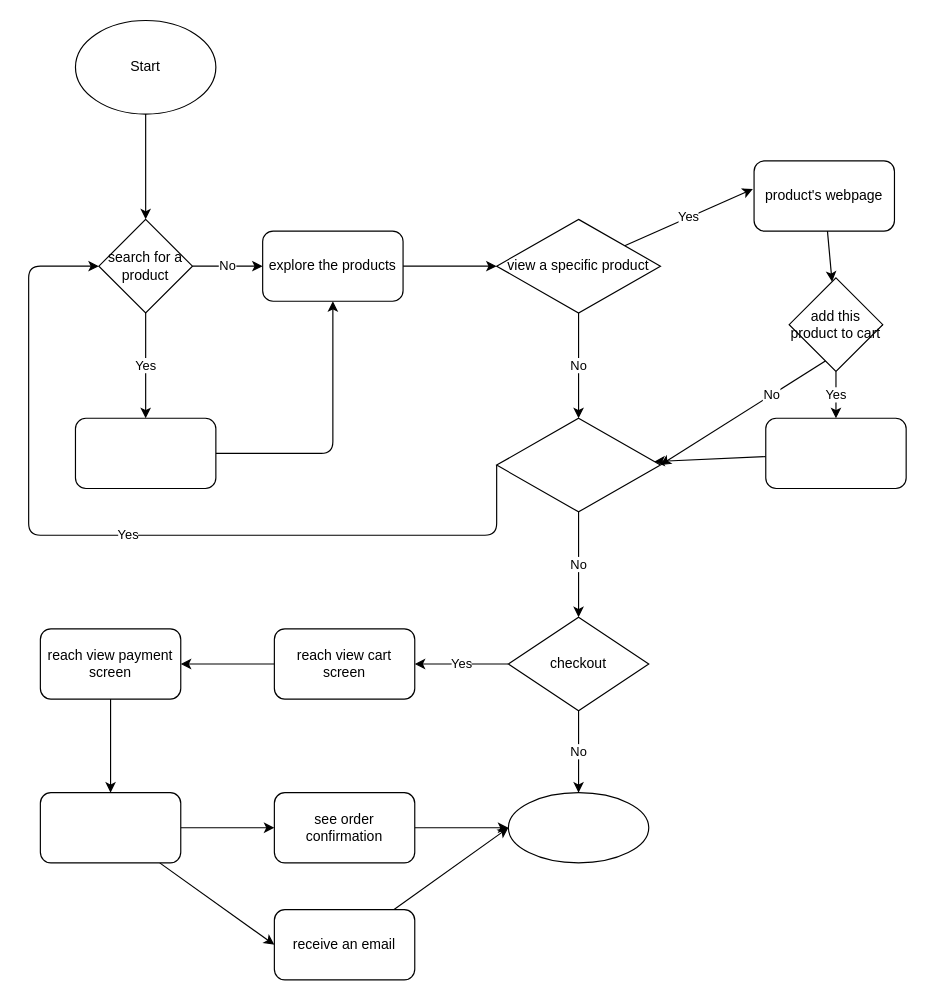
Image size: 927x1000. Some labels were removed from this diagram. Here are the shapes that lost their labels. From the top down, the centre of each, then its label:
point (145, 452): input
point (577, 464): Continue shopping
point (835, 452): get add to cart confirmation
point (110, 827): input payment info
point (578, 827): End
